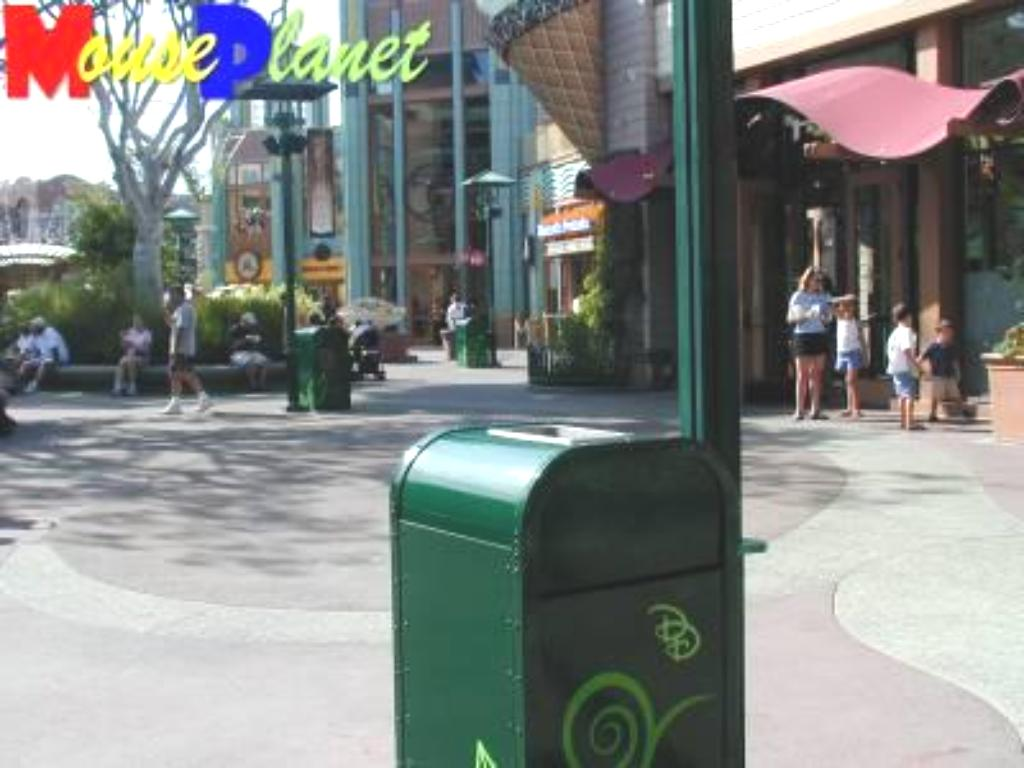dustbin: (379, 410, 747, 768), (290, 313, 358, 415)
